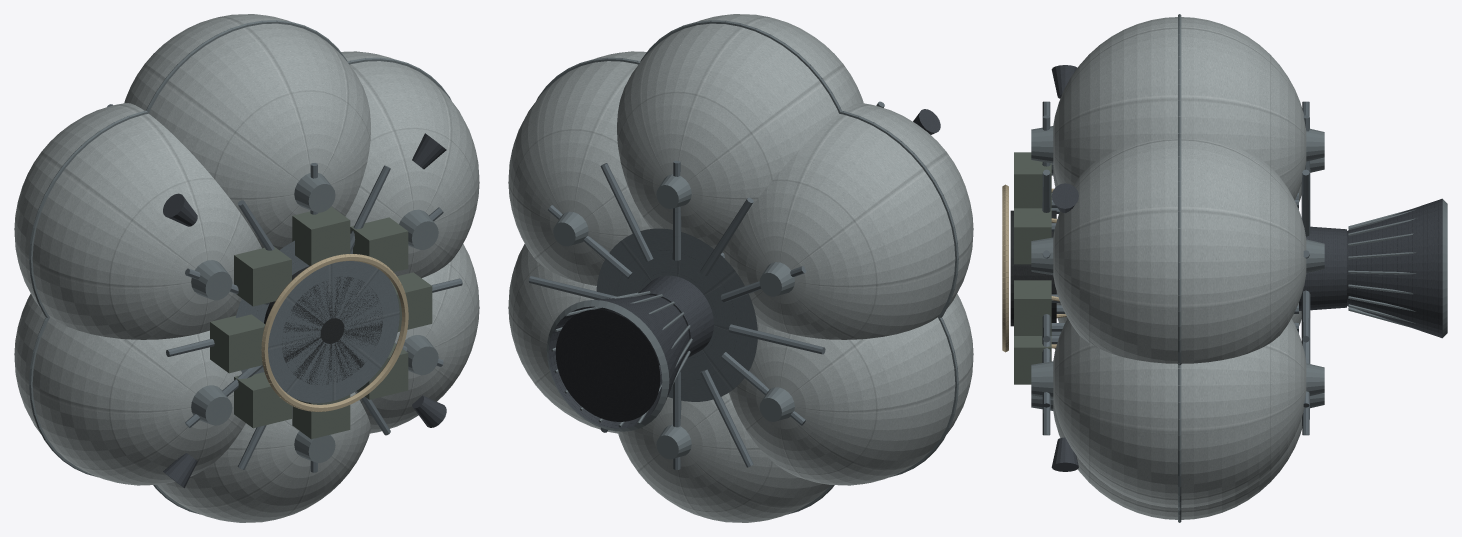
File: fregat_enhanced.obj
3 renders of one model, left to right at view 1: azimuth 30°, elevation 25°; view 2: azimuth 150°, elevation 25°; view 3: azimuth 270°, elevation 25°, orthographic.
Visible parts, largest first — view 1: Fregat_Enhanced; view 2: Fregat_Enhanced; view 3: Fregat_Enhanced.
Boxes of the visible parts, left/top/right/bottom form: Fregat_Enhanced: left=14, top=14, right=479, bottom=522; Fregat_Enhanced: left=508, top=14, right=973, bottom=522; Fregat_Enhanced: left=1002, top=14, right=1447, bottom=522.
Bounding box in the file's own units: 2.91 × 3.13 × 2.61.
8 materials, 8 textured.
